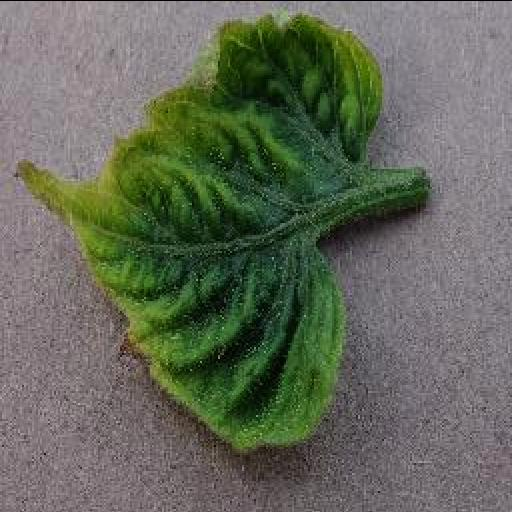disease_tomato: (16, 10, 386, 448)
